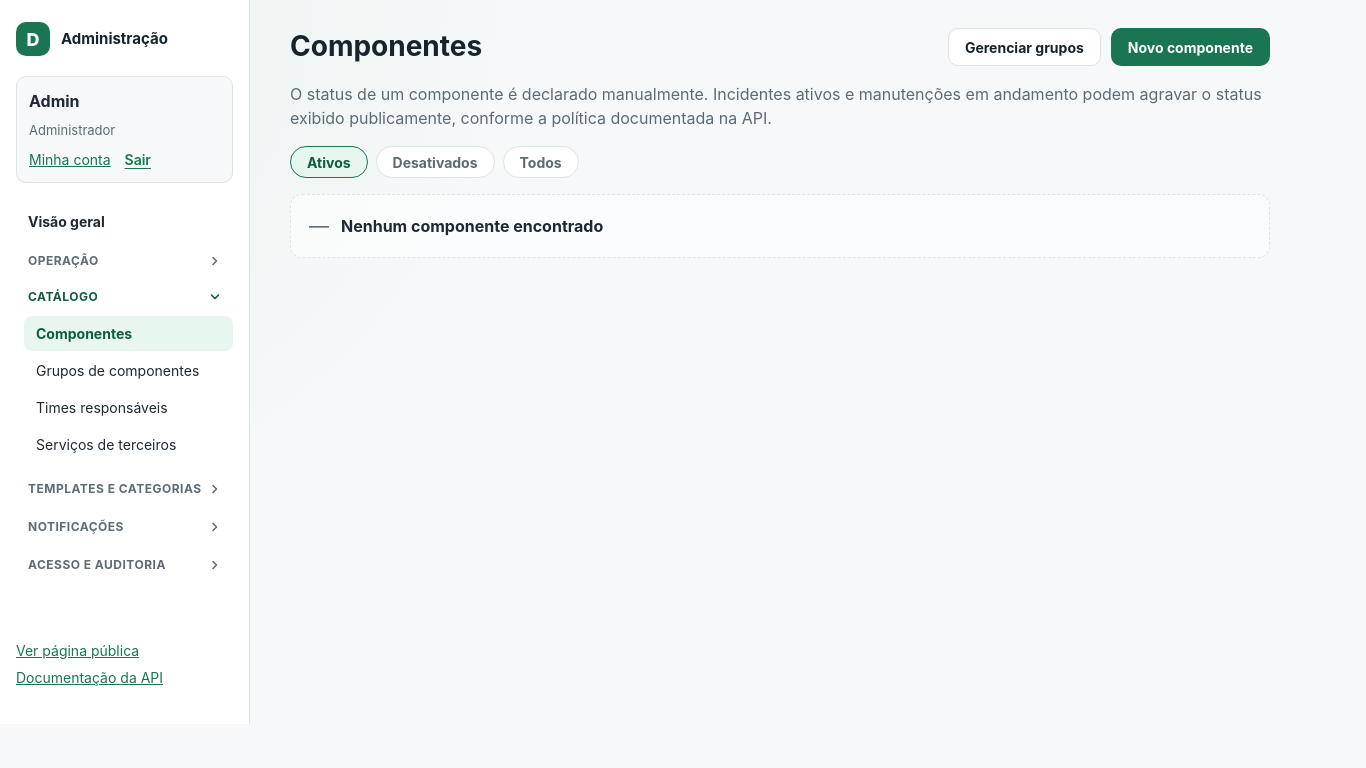
Test case: admin area › groups the admin menu, collapsed except for the current page's group
Click the button "Operação" at (124, 260), box 16,244 -> 233,278
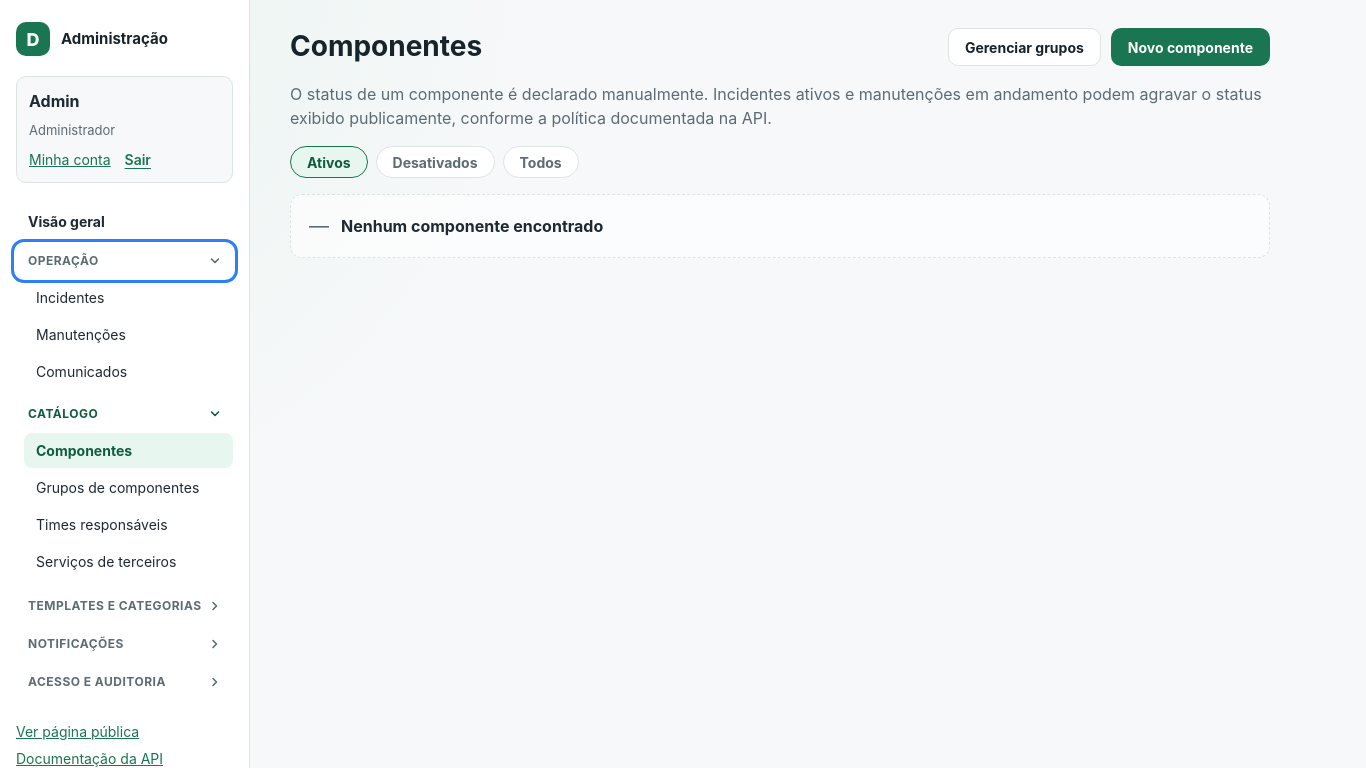
Now the link "Incidentes" is shown, box 36,288 -> 104,306
